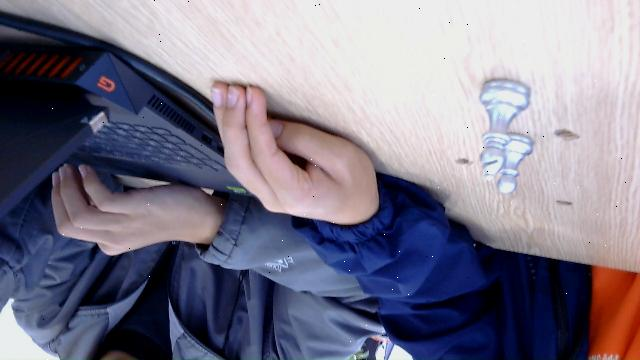white_bishop: (477, 78, 530, 191)
white_pawn: (502, 136, 536, 192)
